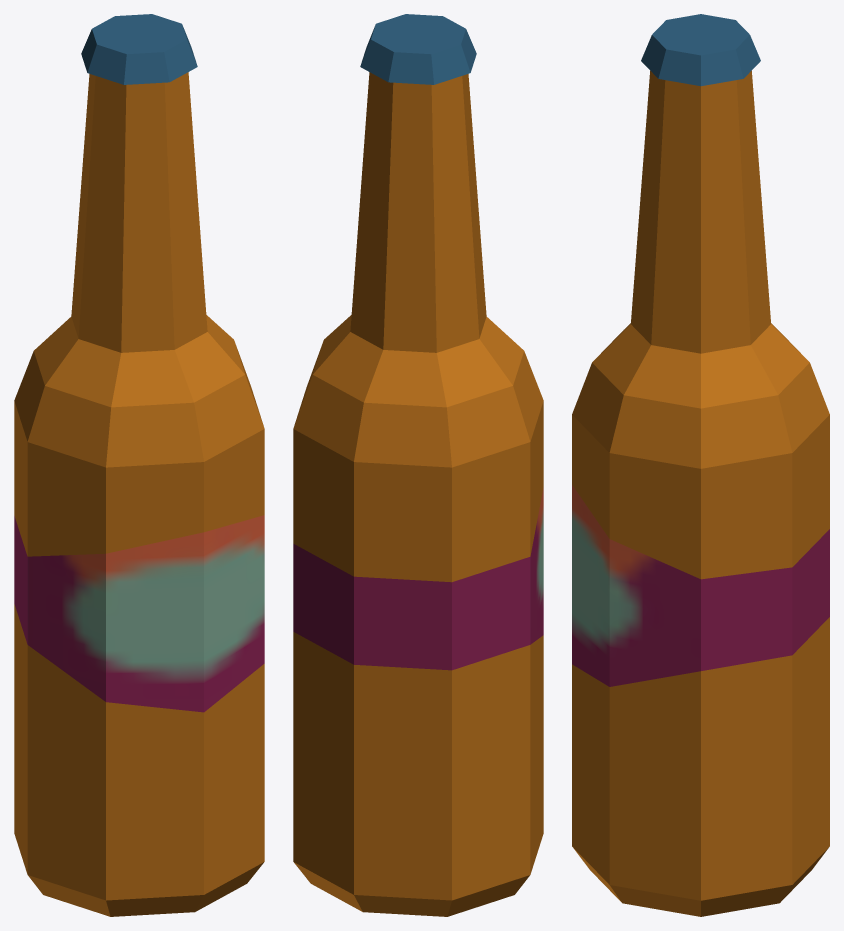
The model's file is SM_Prop_Bar_Bottle_03.obj.
3 views of the same model, side by side, from view 1: azimuth 30°, elevation 25°; view 2: azimuth 150°, elevation 25°; view 3: azimuth 270°, elevation 25° (orthographic).
Visible parts, largest first — view 1: SM_Prop_Bar_Bottle_03_0; view 2: SM_Prop_Bar_Bottle_03_0; view 3: SM_Prop_Bar_Bottle_03_0.
Part boxes in pixels (x1,y1,x2,y2): SM_Prop_Bar_Bottle_03_0: (14,14,264,916); SM_Prop_Bar_Bottle_03_0: (293,14,543,916); SM_Prop_Bar_Bottle_03_0: (572,14,829,916).
Size of the model in its own units: 0.0938 by 0.3354 by 0.0939.
1 material, 1 textured.
